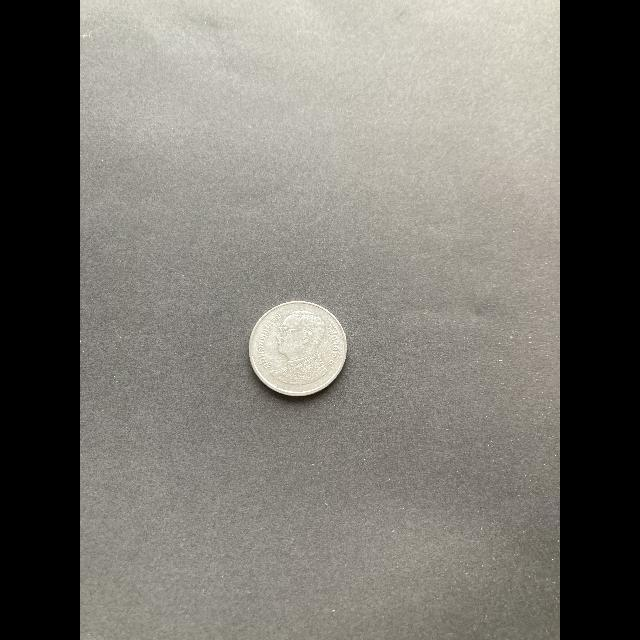1 Bath: (247, 297, 354, 405)
